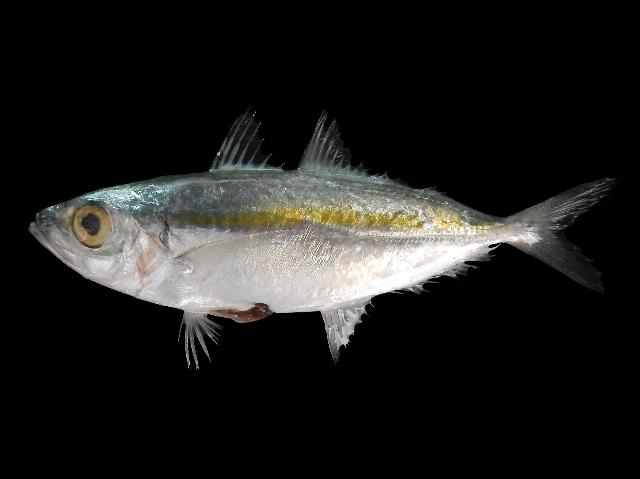Mulut: (20, 198, 64, 268)
Sirip Anal: (324, 241, 500, 379)
Sirip Dada: (177, 224, 301, 278)
Sirip Ekor: (524, 162, 624, 300)
Sirip Perut: (168, 302, 242, 378)
Sirip Punggung: (197, 101, 447, 201)
